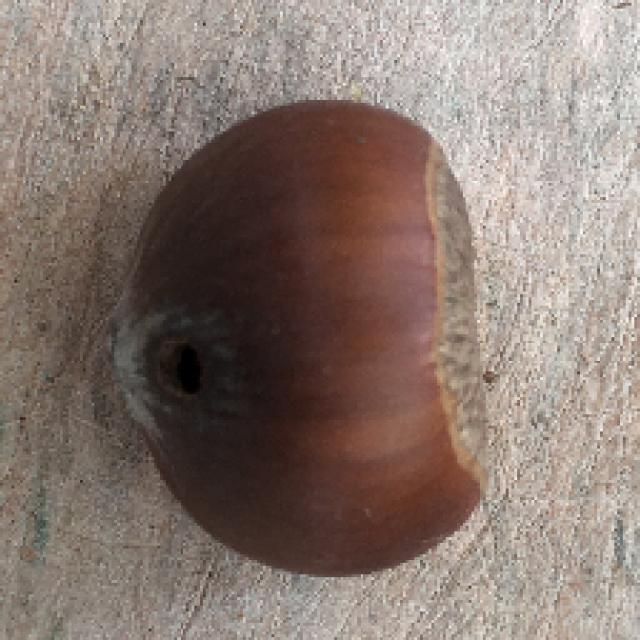damagedHazelnut: (112, 97, 509, 573)
